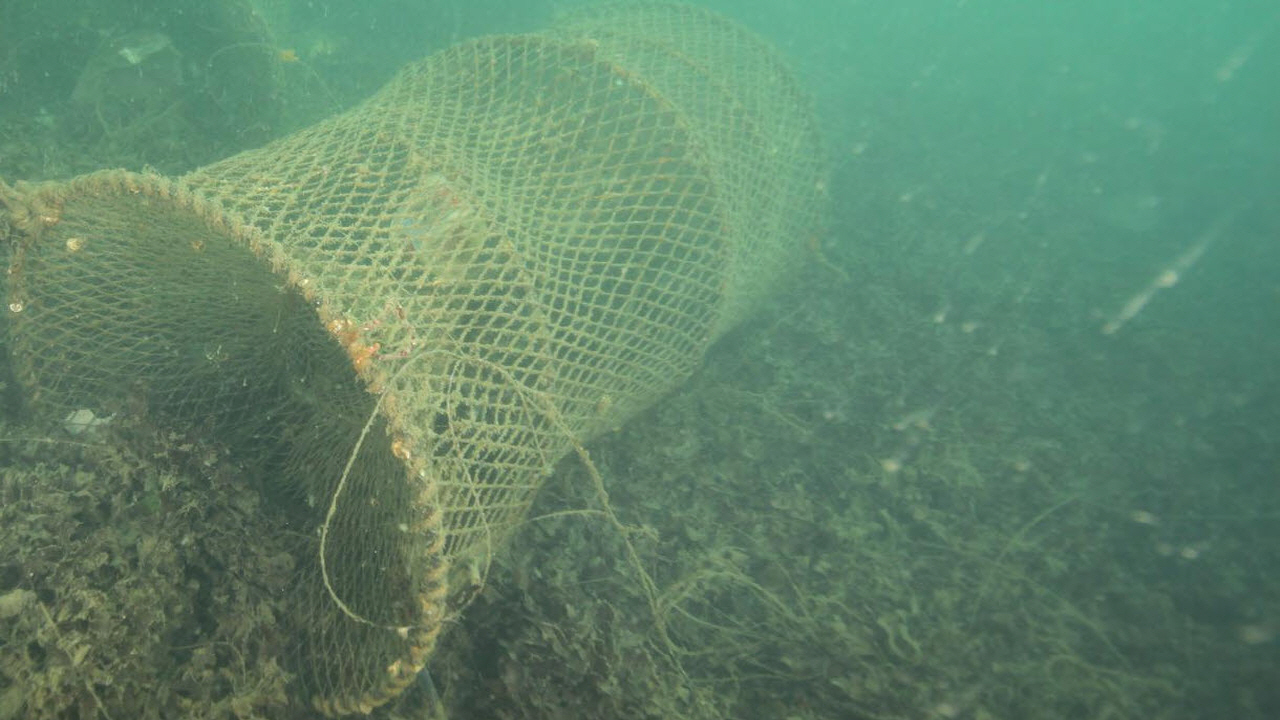spring fish trap: (0, 1, 823, 720)
